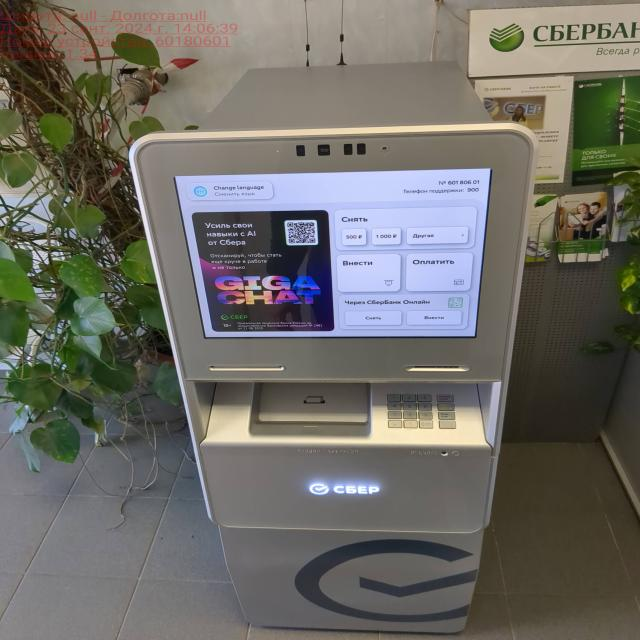bank: (131, 65, 540, 640)
